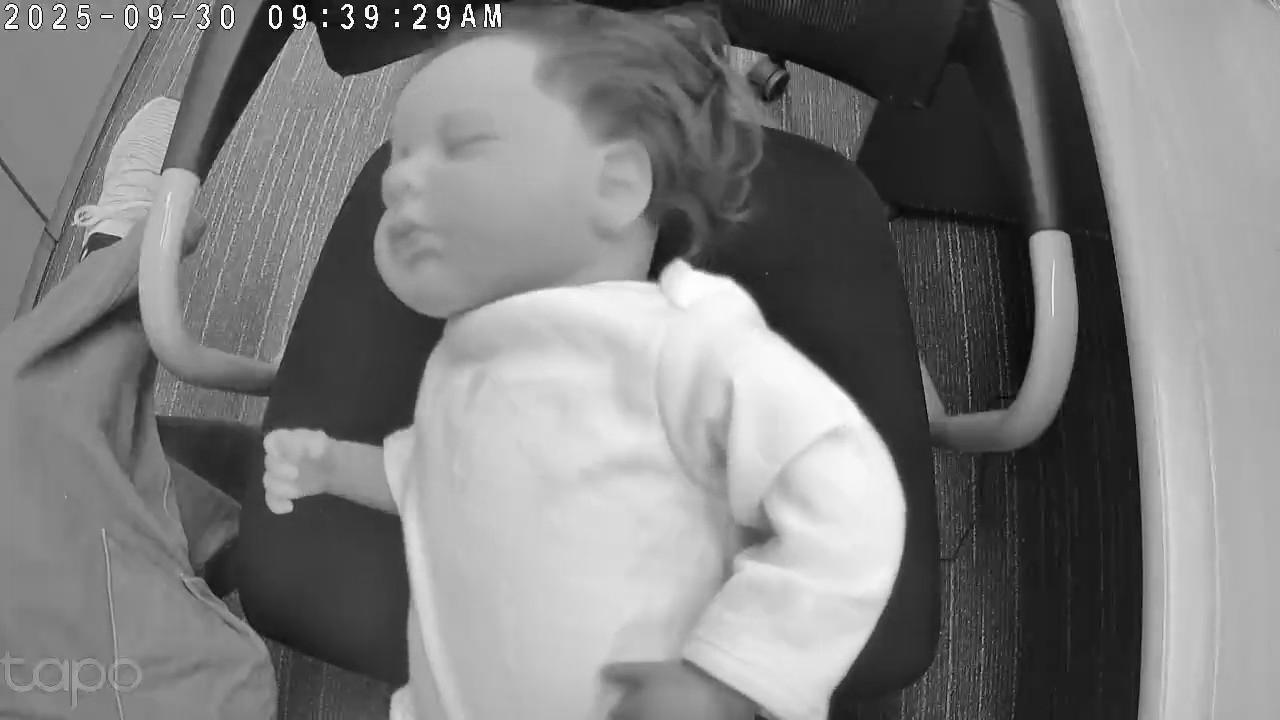hand: (596, 658, 744, 720), (262, 426, 336, 518)
